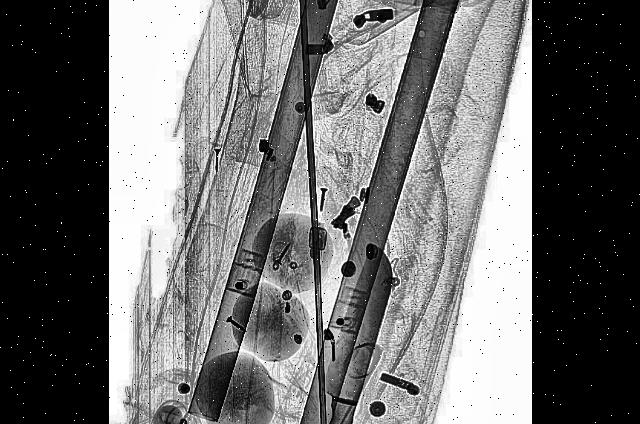Knife: (293, 233, 399, 424)
